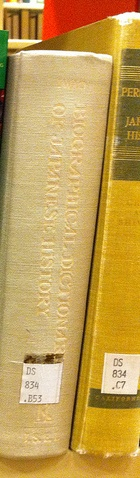call_number: (19, 364, 62, 405), (100, 353, 139, 394)
